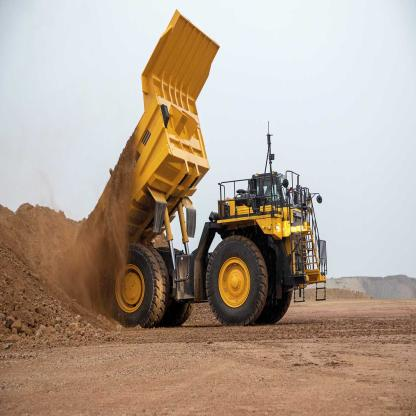dump_truck: (69, 4, 330, 335)
